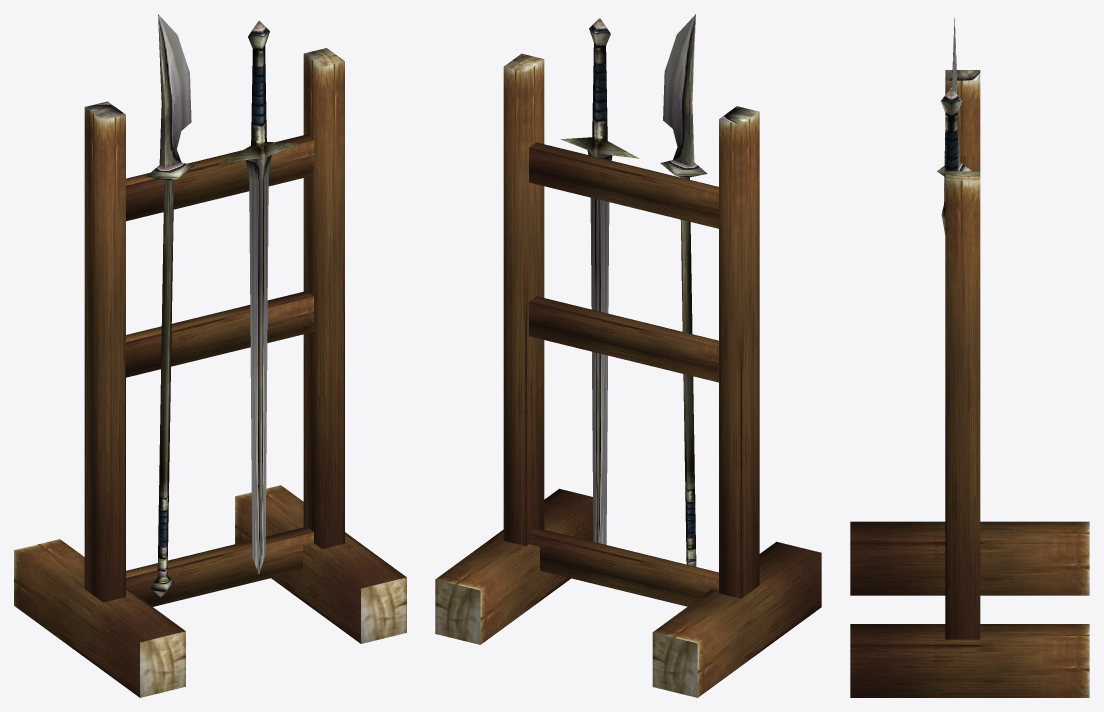
Rendered from generalweaponrack01.glb.
3 renders of one model, left to right at view 1: azimuth 30°, elevation 25°; view 2: azimuth 150°, elevation 25°; view 3: azimuth 270°, elevation 25°, orthographic. The views are drawn at different scales.
Size of the model in its own units: 1.29 by 2.91 by 1.06.
Materials: 2 (2 with a texture image).
